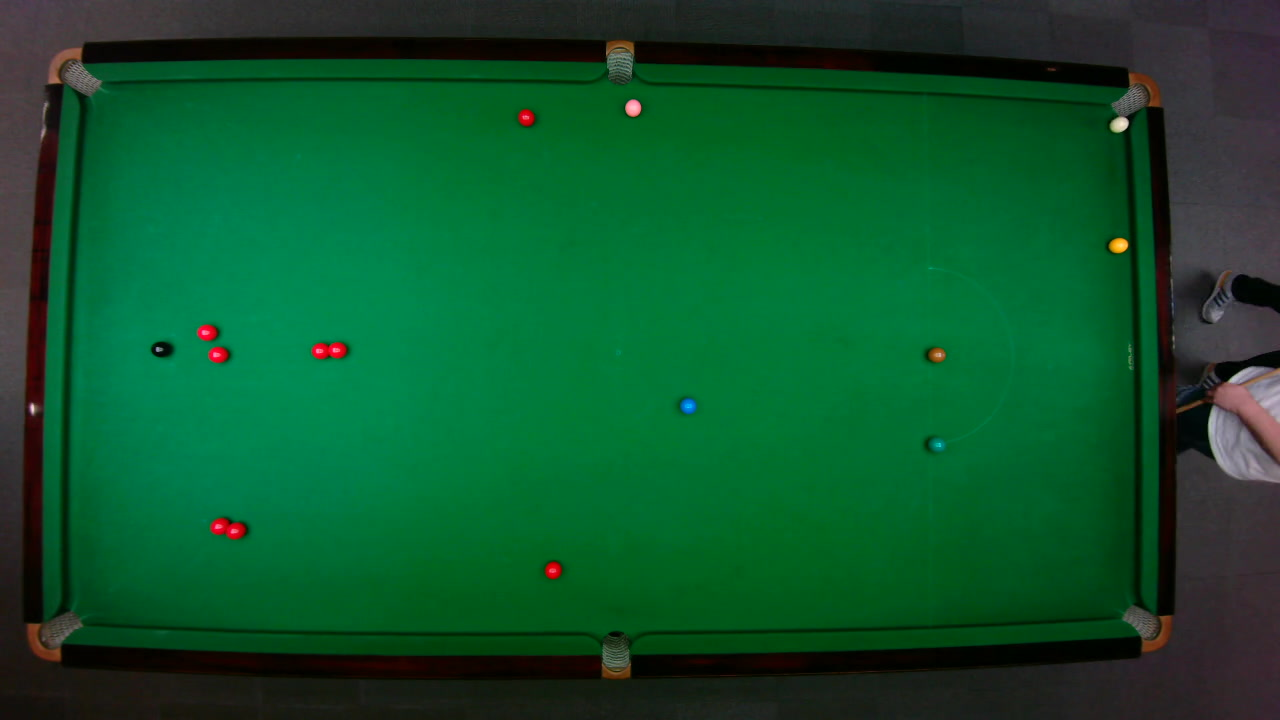bag: (25, 609, 84, 661), (45, 46, 102, 96), (1119, 603, 1171, 652), (1108, 71, 1161, 118), (601, 629, 629, 680), (605, 38, 633, 85)
black: (149, 339, 171, 357)
blue: (678, 396, 697, 414)
brown: (926, 346, 945, 362)
green: (926, 434, 946, 453)
pink: (623, 97, 642, 117)
red: (224, 519, 247, 539), (208, 516, 230, 536), (195, 322, 218, 341), (324, 340, 347, 359), (543, 559, 563, 579), (207, 345, 229, 363), (310, 341, 330, 360), (516, 108, 535, 127)
white: (1108, 115, 1129, 132)
yellow: (1107, 236, 1129, 253)
zone: (926, 265, 1013, 444)
